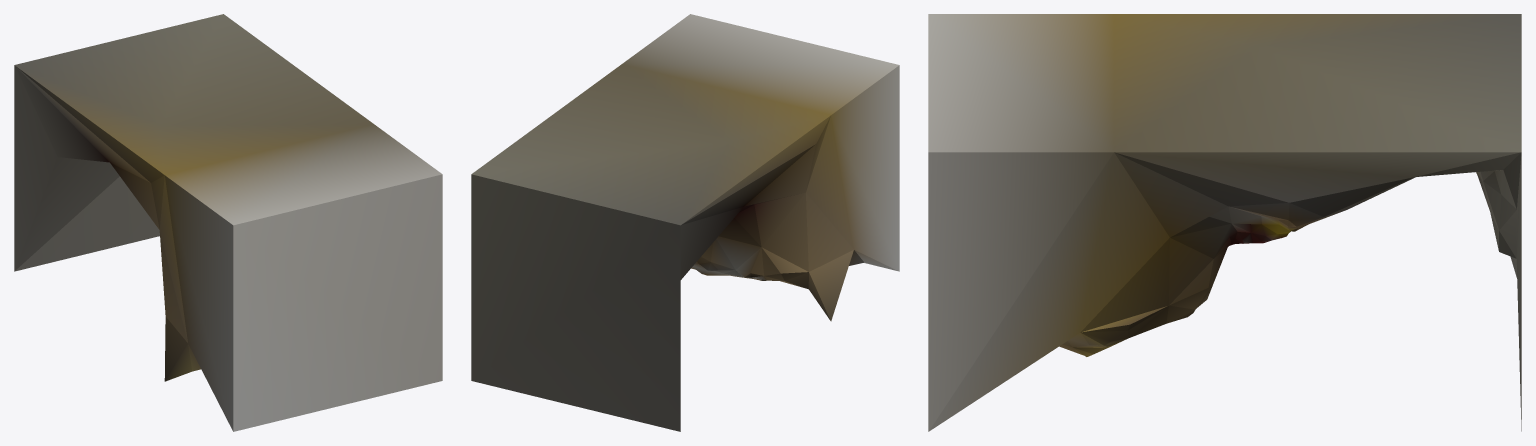
Rendered from AllMightModel.obj.
3 views of the same model, side by side, from view 1: azimuth 30°, elevation 25°; view 2: azimuth 150°, elevation 25°; view 3: azimuth 270°, elevation 25° (orthographic). The views are drawn at different scales.
Parts seen in each view (by area): view 1: default; view 2: default; view 3: default.
Part boxes in pixels (left/top/right/bottom): default: left=14, top=14, right=442, bottom=431; default: left=471, top=14, right=899, bottom=431; default: left=928, top=14, right=1521, bottom=431.
Bounding box in the file's own units: 7.32 × 6.91 × 13.27.
